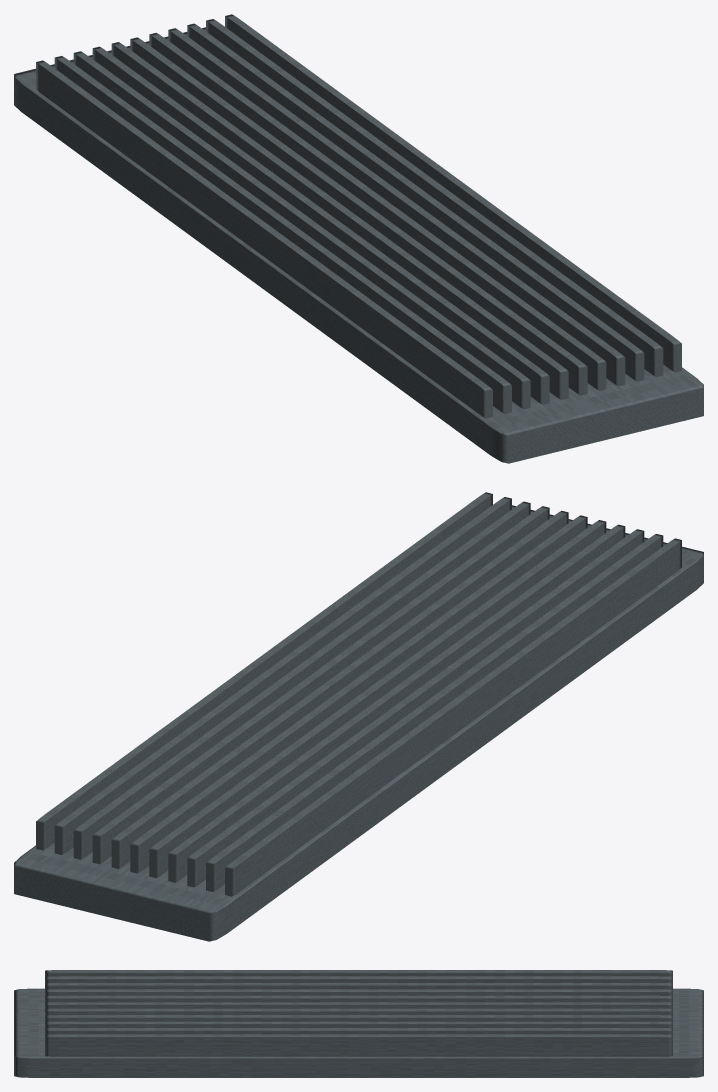
Rendered from drain-trench.glb.
3 renders of one model, top to bottom at view 1: azimuth 30°, elevation 25°; view 2: azimuth 150°, elevation 25°; view 3: azimuth 270°, elevation 25°, orthographic. The views are drawn at different scales.
Parts seen in each view (by area): view 1: slat (×11), rim; view 2: slat (×11), rim; view 3: slat (×11), rim.
Boxes of the visible parts, x1,y1,x2,y2 form: slat (×11): [36, 14, 681, 418]; rim: [14, 27, 703, 463]; slat (×11): [36, 492, 681, 896]; rim: [14, 505, 703, 941]; slat (×11): [45, 970, 672, 1056]; rim: [14, 988, 703, 1077].
Size of the model in its own units: 0.24 by 0.064 by 1.
Materials: 1 (1 with a texture image).
